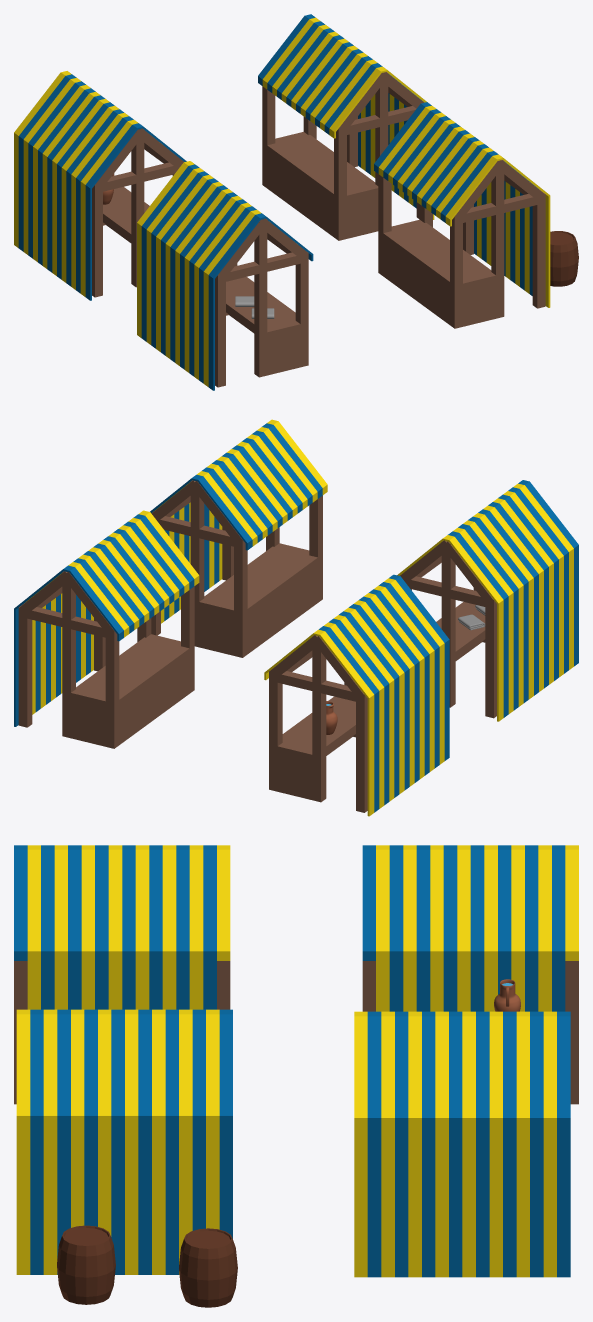
The model's file is market_yellow_blue.obj.
The picture shows the model from 3 angles, top to bottom: view 1: azimuth 30°, elevation 25°; view 2: azimuth 150°, elevation 25°; view 3: azimuth 270°, elevation 25°; orthographic projection. The views are drawn at different scales.
Visible parts, largest first — view 1: Cube.060_Cube.235, Cube.156_Cube.225, Cube.052_Cube.004, Cube.056_Cube.178, Cube.147_Cube.153, Cube.001_Cube.064, Barrel1.001, Cube.025_Cube.001, Cube.057_Cube.179, Cube.051_Cube.174, Cube.082_Cube.091, Cube.002_Cube.065 (+31 smaller); view 2: Cube.156_Cube.225, Cube.060_Cube.235, Cube.056_Cube.178, Cube.052_Cube.004, Cube.001_Cube.064, Cube.147_Cube.153, Cube.057_Cube.179, Cube.025_Cube.001, Cube.098_Cube.107, Cube.036_Cube.159, Cube.146_Cube.152, Cube.002_Cube.065 (+30 smaller); view 3: Cube.156_Cube.225, Cube.060_Cube.235, Cube.001_Cube.064, Cube.147_Cube.153, Barrel1, Barrel1.001, Cube.114_Cube.123, Cube.112_Cube.121, Cube.020_Cube.142, Cube.113_Cube.122, Cube.111_Cube.120, Cube.110_Cube.119 (+27 smaller).
Part boxes in pixels (bbox=[...]): Cube.060_Cube.235: bbox=[137, 161, 313, 390]; Cube.156_Cube.225: bbox=[14, 71, 186, 300]; Cube.052_Cube.004: bbox=[381, 160, 545, 328]; Cube.056_Cube.178: bbox=[264, 72, 423, 240]; Cube.147_Cube.153: bbox=[474, 181, 550, 307]; Cube.001_Cube.064: bbox=[358, 93, 434, 219]; Barrel1.001: bbox=[550, 231, 578, 286]; Cube.025_Cube.001: bbox=[378, 174, 391, 275]; Cube.057_Cube.179: bbox=[262, 86, 275, 188]; Cube.051_Cube.174: bbox=[329, 68, 381, 131]; Cube.082_Cube.091: bbox=[446, 156, 497, 219]; Cube.002_Cube.065: bbox=[258, 76, 335, 138]; Cube.156_Cube.225: bbox=[264, 574, 449, 816]; Cube.060_Cube.235: bbox=[397, 480, 578, 721]; Cube.056_Cube.178: bbox=[18, 571, 194, 747]; Cube.052_Cube.004: bbox=[151, 480, 322, 656]; Cube.001_Cube.064: bbox=[14, 593, 93, 726]; Cube.147_Cube.153: bbox=[161, 502, 222, 623]; Cube.057_Cube.179: bbox=[105, 631, 119, 748]; Cube.025_Cube.001: bbox=[234, 540, 247, 657]; Cube.098_Cube.107: bbox=[198, 476, 251, 543]; Cube.036_Cube.159: bbox=[69, 567, 123, 633]; Cube.146_Cube.152: bbox=[245, 485, 327, 550]; Cube.002_Cube.065: bbox=[117, 576, 199, 641]; Cube.156_Cube.225: bbox=[362, 845, 578, 1104]; Cube.060_Cube.235: bbox=[14, 845, 230, 1104]; Cube.001_Cube.064: bbox=[354, 1118, 570, 1277]; Cube.147_Cube.153: bbox=[16, 1115, 232, 1274]; Barrel1: bbox=[179, 1228, 237, 1307]; Barrel1.001: bbox=[57, 1225, 115, 1304]; Cube.114_Cube.123: bbox=[16, 1014, 30, 1115]; Cube.112_Cube.121: bbox=[43, 1014, 57, 1115]; Cube.020_Cube.142: bbox=[367, 1016, 381, 1117]; Cube.113_Cube.122: bbox=[30, 1014, 43, 1115]; Cube.111_Cube.120: bbox=[57, 1014, 70, 1115]; Cube.110_Cube.119: bbox=[71, 1014, 84, 1115].
Bounding box in the file's own units: 9.51 × 3.73 × 8.36.
